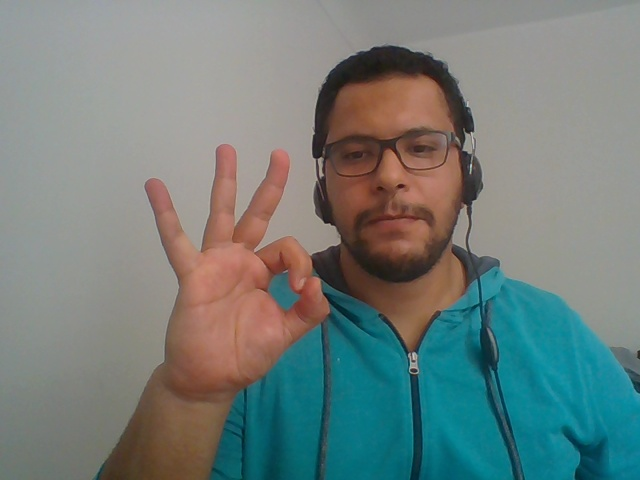okay: (120, 131, 333, 455)
